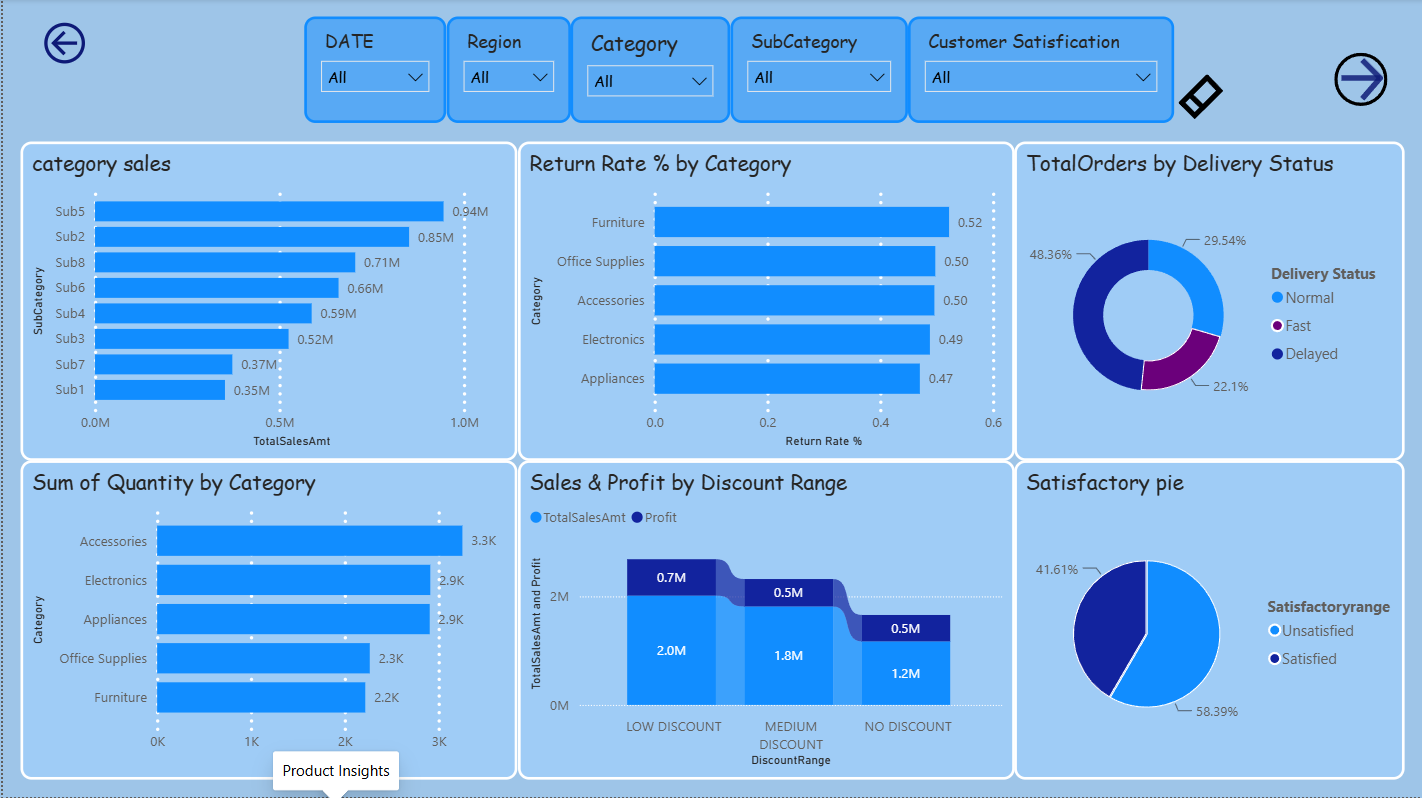

What the dashboard file says about the page in this screenshot:
{"tool":"powerbi","page":{"name":"Product Insights","canvas":[1280,720],"ordinal":2},"visuals":[{"type":"group","id":"g1","title":"Group 1","box":[272,16,784,96],"z":0},{"type":"slicer","fields":{"Values":["Calender.Date.Variation.Date Hierarchy.Year","Calender.Date.Variation.Date Hierarchy.Quarter","Calender.Date.Variation.Date Hierarchy.Month","Calender.Date.Variation.Date Hierarchy.Day"]},"box":[272,16,128,96],"z":0,"group":"g1"},{"type":"slicer","fields":{"Values":["DimProduct.Region"]},"box":[400,16,112,96],"z":1000,"group":"g1"},{"type":"clusteredBarChart","title":"category sales","fields":{"Category":["DimProduct.SubCategory"],"Y":["DimProduct.TotalSalesAmt"]},"box":[16,128,448,288],"z":1000},{"type":"slicer","fields":{"Values":["DimProduct.Category"]},"box":[512,16,144,96],"z":2000,"group":"g1"},{"type":"clusteredBarChart","fields":{"Y":["Sum(FactSales.Quantity)"],"Category":["DimProduct.Category"]},"box":[16,416,448,288],"z":2000},{"type":"slicer","fields":{"Values":["DimProduct.SubCategory"]},"box":[656,16,160,96],"z":3000,"group":"g1"},{"type":"clusteredBarChart","fields":{"Y":["DimProduct.Return Rate %"],"Category":["DimProduct.Category"]},"box":[464,128,448,288],"z":3000},{"type":"slicer","fields":{"Values":["FactSales.Satisfactoryrange"]},"box":[816,16,240,96],"z":4000,"group":"g1"},{"type":"pieChart","title":"Satisfactory pie","fields":{"Category":["FactSales.Satisfactoryrange"],"Y":["DimProduct.TotalOrders"]},"box":[912,416,352,288],"z":4000},{"type":"donutChart","fields":{"Y":["DimProduct.TotalOrders"],"Category":["FactSales.Delivery Status"]},"box":[912,128,352,288],"z":5000},{"type":"columnChart","title":"Sales & Profit by Discount Range","fields":{"Y":["DimProduct.TotalSalesAmt","FactSales.Profit"],"Category":["FactSales.DiscountRange"]},"box":[464,416,448,288],"z":6000},{"type":"actionButton","box":[32,16,48,48],"z":7000},{"type":"actionButton","box":[1056,64,48,48],"z":8000},{"type":"actionButton","box":[1200,48,48,48],"z":9000}]}

Visuals, with their boxes in screenshot pixels (x1, y1, x2, y2), scaled from the page's 1280x720 canvas onto the 1422x798 screenshot:
"Group 1" group: {"left": 302, "top": 18, "right": 1173, "bottom": 124}
slicer - Calender.Date.Variation.Date Hierarchy.Year x Calender.Date.Variation.Date Hierarchy.Quarter: {"left": 302, "top": 18, "right": 444, "bottom": 124}
slicer - DimProduct.Region: {"left": 444, "top": 18, "right": 569, "bottom": 124}
"category sales" clusteredBarChart: {"left": 18, "top": 142, "right": 515, "bottom": 461}
slicer - DimProduct.Category: {"left": 569, "top": 18, "right": 729, "bottom": 124}
clusteredBarChart - Sum(FactSales.Quantity) x DimProduct.Category: {"left": 18, "top": 461, "right": 515, "bottom": 780}
slicer - DimProduct.SubCategory: {"left": 729, "top": 18, "right": 907, "bottom": 124}
clusteredBarChart - DimProduct.Return Rate % x DimProduct.Category: {"left": 515, "top": 142, "right": 1013, "bottom": 461}
slicer - FactSales.Satisfactoryrange: {"left": 907, "top": 18, "right": 1173, "bottom": 124}
"Satisfactory pie" pieChart: {"left": 1013, "top": 461, "right": 1404, "bottom": 780}
donutChart - DimProduct.TotalOrders x FactSales.Delivery Status: {"left": 1013, "top": 142, "right": 1404, "bottom": 461}
"Sales & Profit by Discount Range" columnChart: {"left": 515, "top": 461, "right": 1013, "bottom": 780}
actionButton: {"left": 36, "top": 18, "right": 89, "bottom": 71}
actionButton: {"left": 1173, "top": 71, "right": 1226, "bottom": 124}
actionButton: {"left": 1333, "top": 53, "right": 1386, "bottom": 106}
